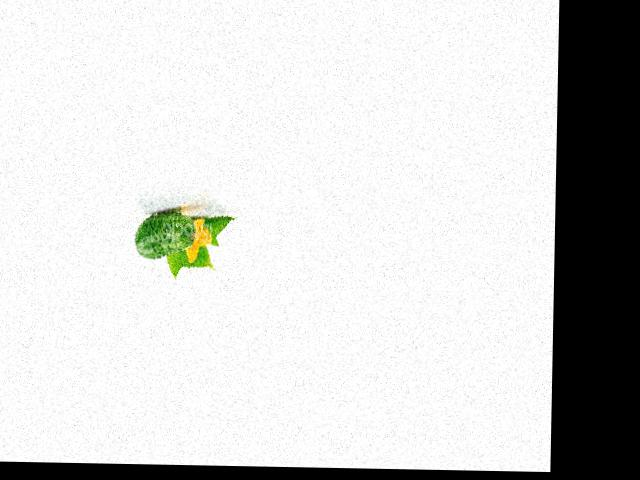cucumber: (134, 210, 194, 259)
